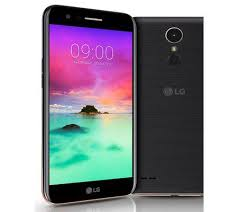lg: (37, 4, 207, 203), (37, 4, 136, 206), (131, 12, 207, 197)
